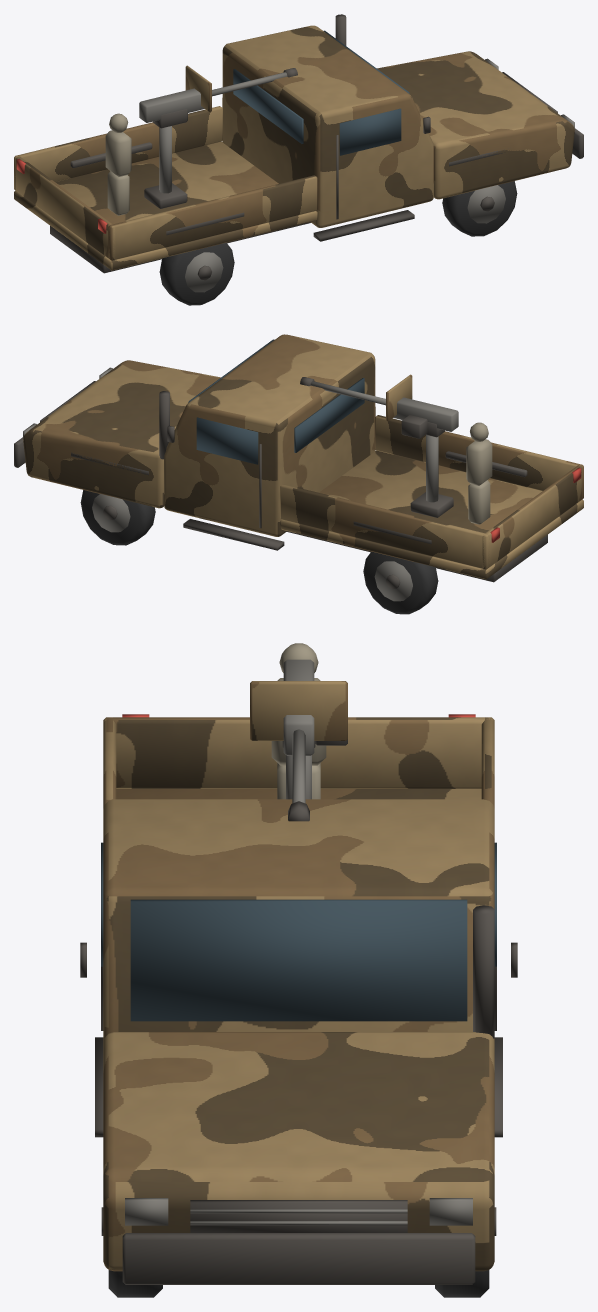
Rendered from convoy_technical.glb.
The picture shows the model from 3 angles, top to bottom: view 1: azimuth 30°, elevation 25°; view 2: azimuth 150°, elevation 25°; view 3: azimuth 270°, elevation 25°; orthographic projection. The views are drawn at different scales.
Parts seen in each view (by area): view 1: convoy_technical, turret, wheel_1r, wheel_fr; view 2: convoy_technical, turret, wheel_1l, wheel_fl; view 3: convoy_technical, turret, wheel_fl, wheel_fr.
Boxes of the visible parts, x1,y1,x2,y2 form: convoy_technical: (14, 14, 583, 273); turret: (105, 65, 297, 215); wheel_1r: (159, 242, 234, 305); wheel_fr: (442, 181, 517, 236); convoy_technical: (14, 334, 583, 582); turret: (300, 374, 492, 524); wheel_1l: (363, 551, 438, 614); wheel_fl: (80, 490, 155, 545); convoy_technical: (80, 714, 517, 1284); turret: (250, 643, 347, 821); wheel_fl: (435, 1207, 496, 1297); wheel_fr: (101, 1207, 162, 1297).
Size of the model in its own units: 1.02 by 0.38 by 0.402.
Materials: 7 (1 with a texture image).
